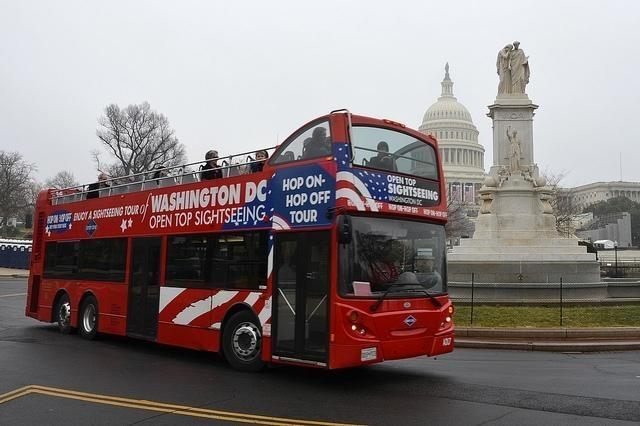bus: (25, 110, 455, 372)
